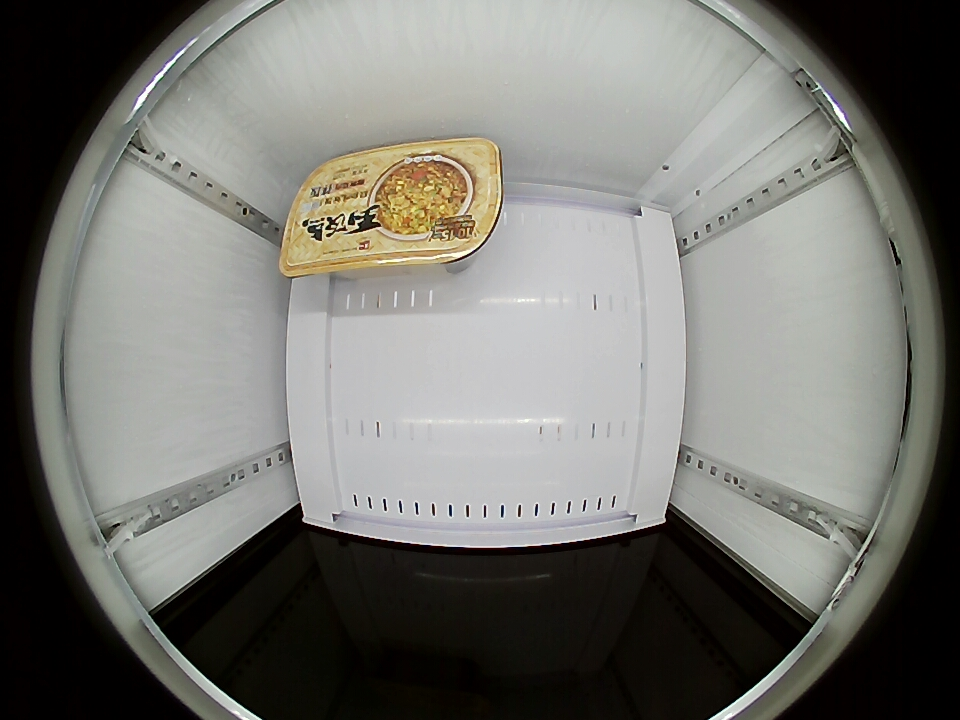daofandian3: (278, 138, 504, 277)
